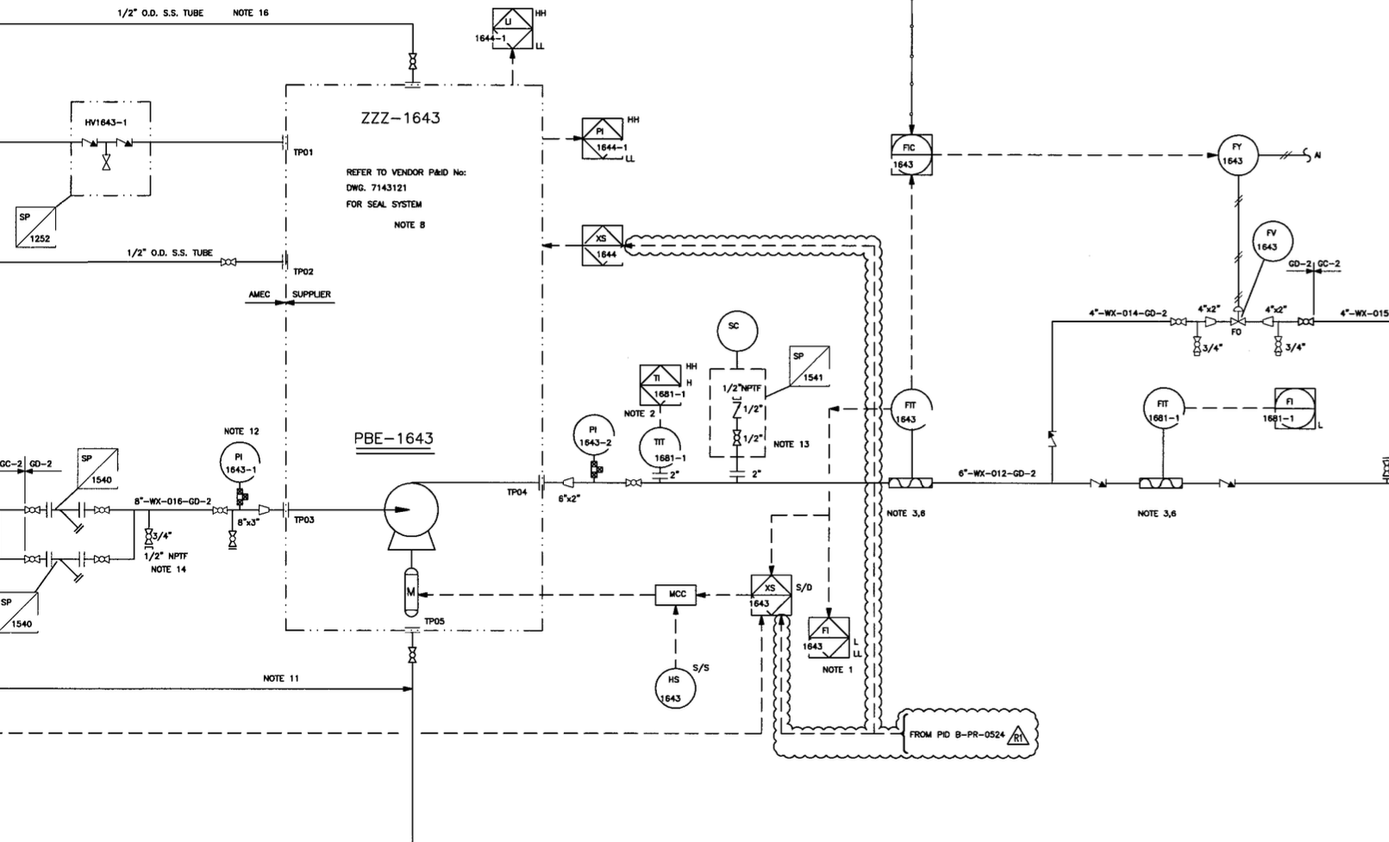Instrument-offset: (1131, 375, 1187, 436), (629, 664, 700, 710), (630, 425, 693, 471), (562, 409, 620, 458), (889, 377, 934, 435), (217, 439, 272, 486), (1247, 212, 1294, 262), (1215, 132, 1262, 181)
Instrument-square-offset: (567, 109, 628, 163), (472, 2, 535, 53), (880, 125, 938, 180), (1259, 382, 1318, 433), (631, 354, 685, 409), (742, 570, 796, 620), (801, 611, 851, 659), (577, 216, 625, 265)
